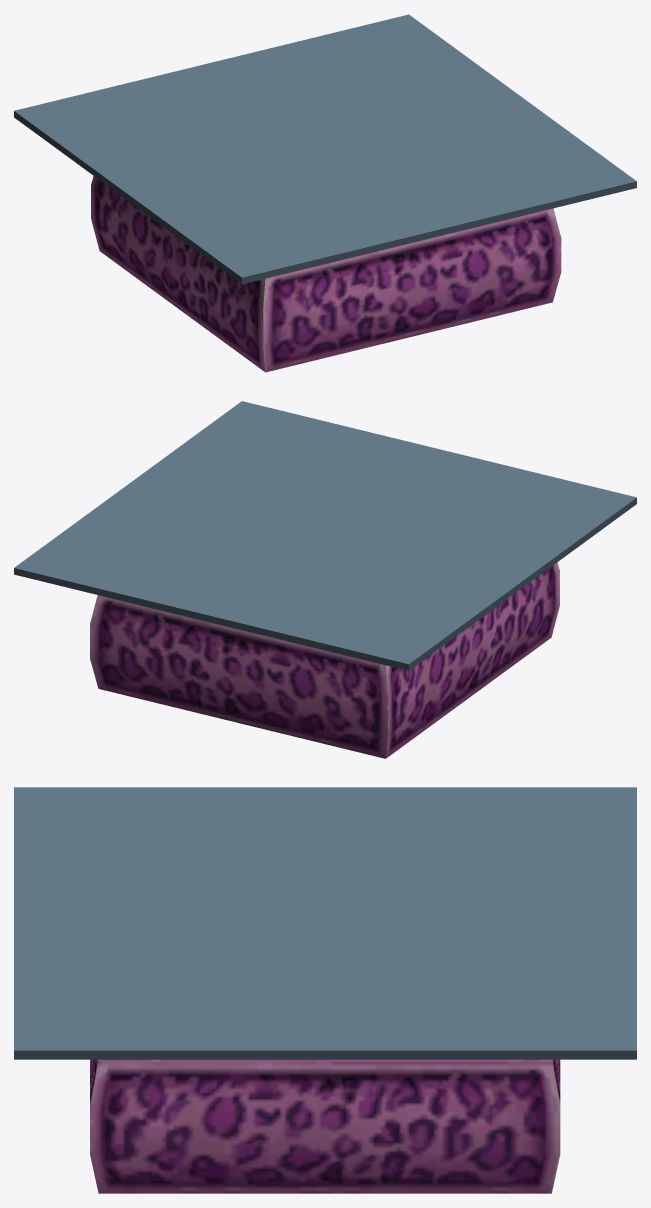
Rendered from furni_0200097_02.FBX.
3 views of the same model, one above another, from view 1: azimuth 30°, elevation 25°; view 2: azimuth 150°, elevation 25°; view 3: azimuth 270°, elevation 25° (orthographic). The views are drawn at different scales.
Visible parts, largest first — view 1: furni_0200097_02; view 2: furni_0200097_02; view 3: furni_0200097_02.
Part boxes in pixels (<box>): furni_0200097_02: <box>14,14,636,372</box>; furni_0200097_02: <box>14,401,636,758</box>; furni_0200097_02: <box>14,787,636,1193</box>.
Size of the model in its own units: 160 by 50.61 by 160.
Materials: 2 (2 with a texture image).
